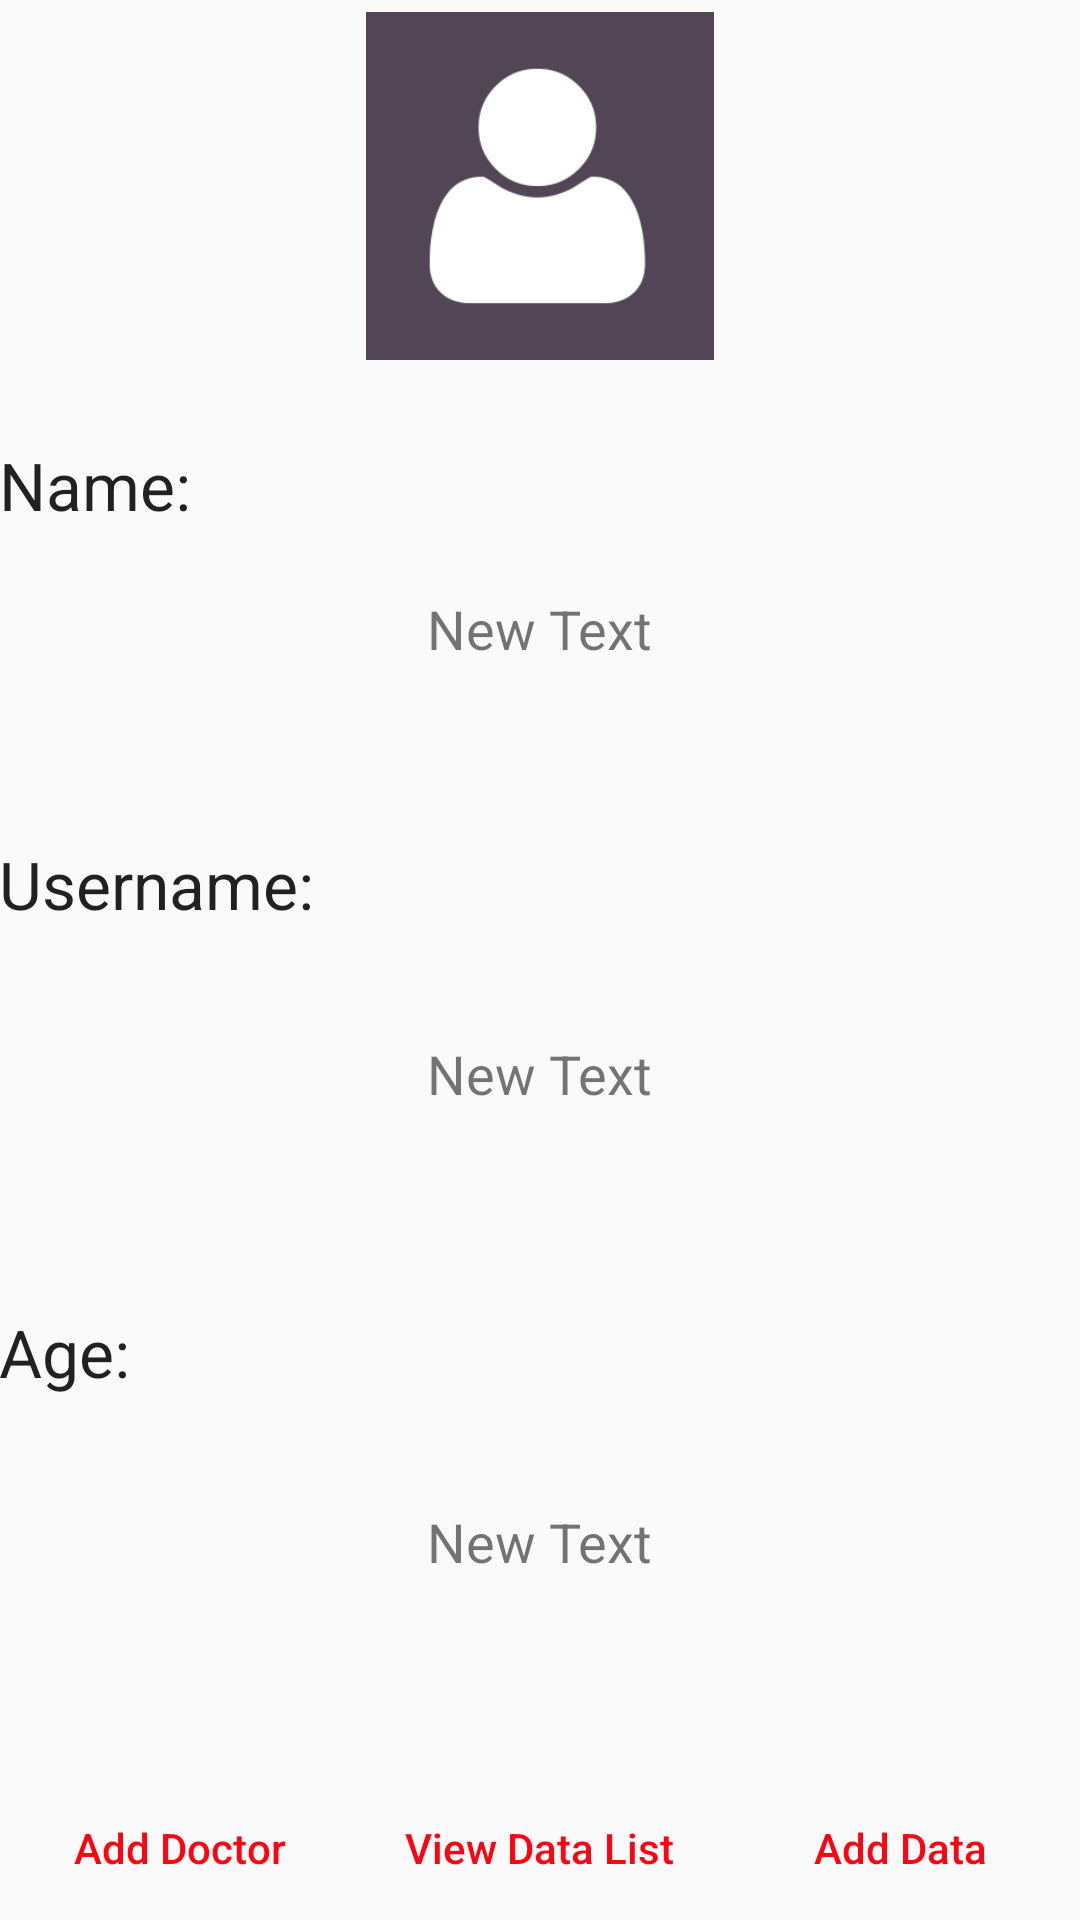

Icons on this 1080x1920 Android screen, each with its box as (x1, y1, x2, y2):
patient's image: (366, 12, 714, 360)
